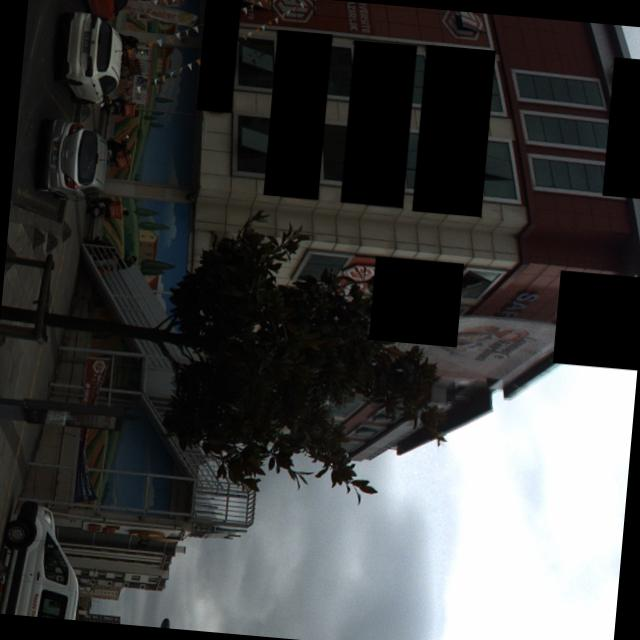SignStore: (425, 44, 481, 217), (351, 41, 400, 207), (368, 261, 461, 342), (275, 29, 317, 199), (551, 300, 640, 364), (200, 0, 233, 112), (612, 57, 640, 136)
